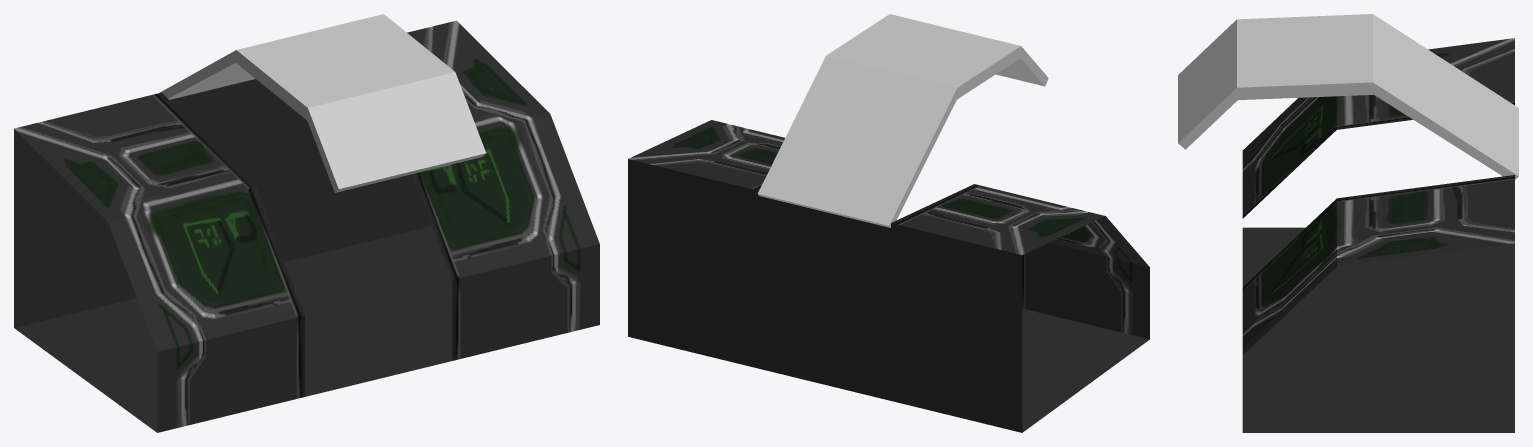
Rendered from shipDoor.fbx.
The picture shows the model from 3 angles, left to right: view 1: azimuth 30°, elevation 25°; view 2: azimuth 150°, elevation 25°; view 3: azimuth 270°, elevation 25°; orthographic projection. The views are drawn at different scales.
Parts seen in each view (by area): view 1: Hull, Door; view 2: Hull, Door; view 3: Hull, Door.
Boxes of the visible parts, x1=… form: Hull: x1=14, y1=20, x2=599, y2=432; Door: x1=160, y1=14, x2=485, y2=192; Hull: x1=628, y1=120, x2=1149, y2=432; Door: x1=757, y1=14, x2=1048, y2=227; Hull: x1=1242, y1=38, x2=1514, y2=432; Door: x1=1178, y1=14, x2=1518, y2=179.
Size of the model in its own units: 1018 by 653 by 715.
